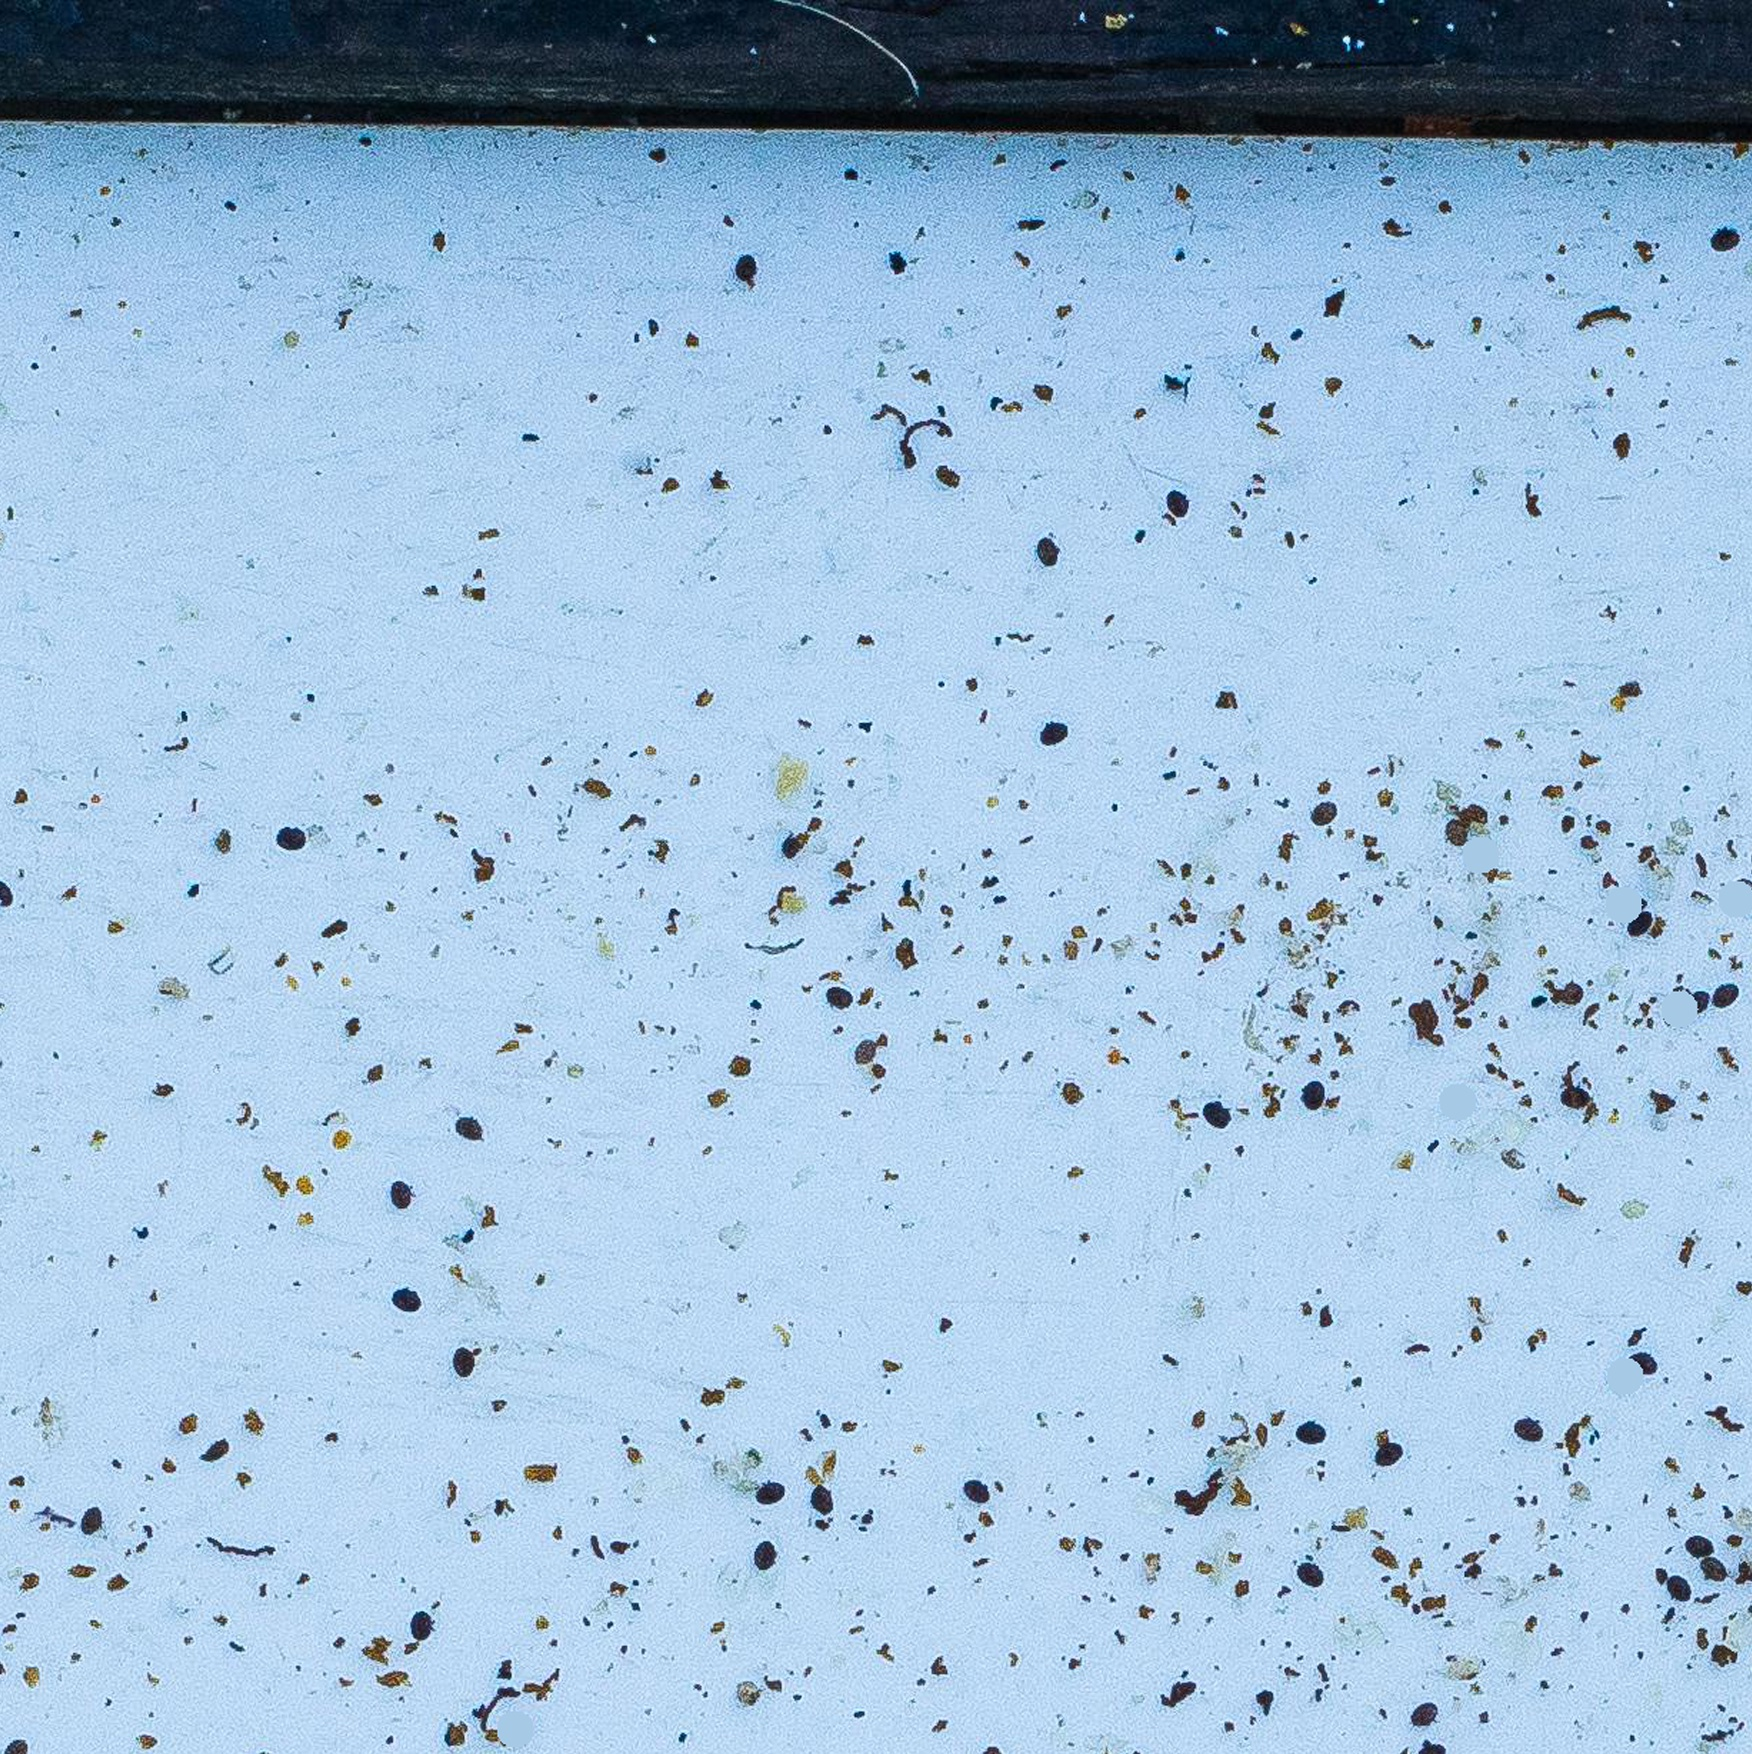Varroa: (823, 979, 857, 1013), (809, 1480, 842, 1513), (273, 823, 305, 859), (1625, 1345, 1657, 1378), (444, 1342, 477, 1374), (846, 1037, 878, 1069), (452, 1114, 485, 1146), (730, 250, 762, 282), (388, 1285, 420, 1318), (1709, 981, 1741, 1013), (1032, 538, 1062, 570), (751, 1541, 781, 1573), (1035, 716, 1065, 746), (74, 1505, 104, 1536), (1409, 1698, 1439, 1728), (1308, 791, 1338, 822), (385, 1173, 414, 1205), (1511, 1407, 1540, 1438), (1699, 1558, 1728, 1589), (1375, 1443, 1404, 1472), (1162, 489, 1190, 518), (404, 1613, 433, 1642), (1296, 1080, 1325, 1109), (1681, 1528, 1710, 1557), (1620, 905, 1648, 934), (1295, 1414, 1324, 1441), (1556, 1091, 1585, 1119), (1662, 1573, 1691, 1600), (1300, 1561, 1327, 1590), (961, 1478, 987, 1505), (1712, 223, 1738, 250), (1202, 1099, 1227, 1127), (754, 1478, 780, 1504), (409, 1295, 427, 1313), (1725, 974, 1728, 998), (411, 1186, 414, 1204)
